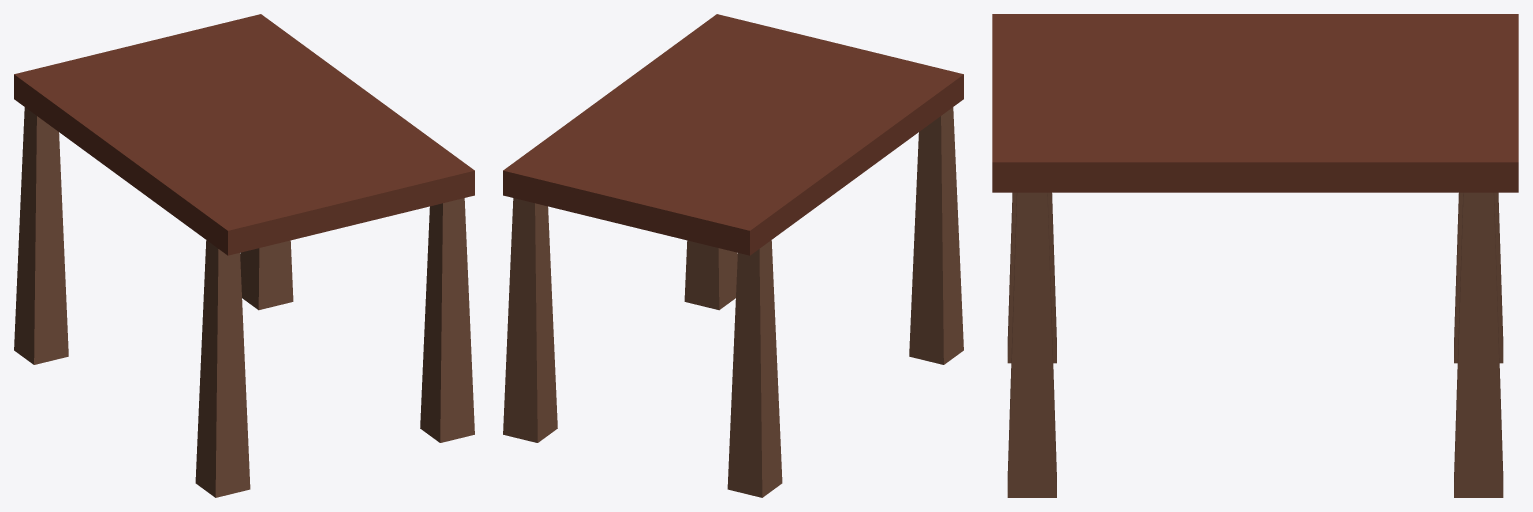
The model's file is table4.fbx.
The picture shows the model from 3 angles, left to right: view 1: azimuth 30°, elevation 25°; view 2: azimuth 150°, elevation 25°; view 3: azimuth 270°, elevation 25°; orthographic projection. The views are drawn at different scales.
Visible parts, largest first — view 1: Cube.005, Cube.002, Cube.001, Cube.003, Cube.004; view 2: Cube.005, Cube.001, Cube.002, Cube.004, Cube.003; view 3: Cube.005, Cube.003, Cube.004, Cube.001, Cube.002.
Boxes of the visible parts, left/top/right/bottom form: Cube.005: left=14, top=14, right=474, bottom=255; Cube.002: left=195, top=240, right=250, bottom=497; Cube.001: left=14, top=107, right=68, bottom=364; Cube.003: left=420, top=198, right=474, bottom=442; Cube.004: left=240, top=240, right=293, bottom=310; Cube.005: left=503, top=14, right=963, bottom=255; Cube.001: left=727, top=240, right=782, bottom=497; Cube.002: left=909, top=107, right=963, bottom=364; Cube.004: left=503, top=198, right=557, bottom=442; Cube.003: left=684, top=240, right=737, bottom=310; Cube.005: left=992, top=14, right=1518, bottom=192; Cube.003: left=1007, top=192, right=1056, bottom=497; Cube.004: left=1454, top=192, right=1503, bottom=497; Cube.001: left=1454, top=192, right=1503, bottom=363; Cube.002: left=1007, top=192, right=1056, bottom=363.
Size of the model in its own units: 1155 by 1149 by 1650.
